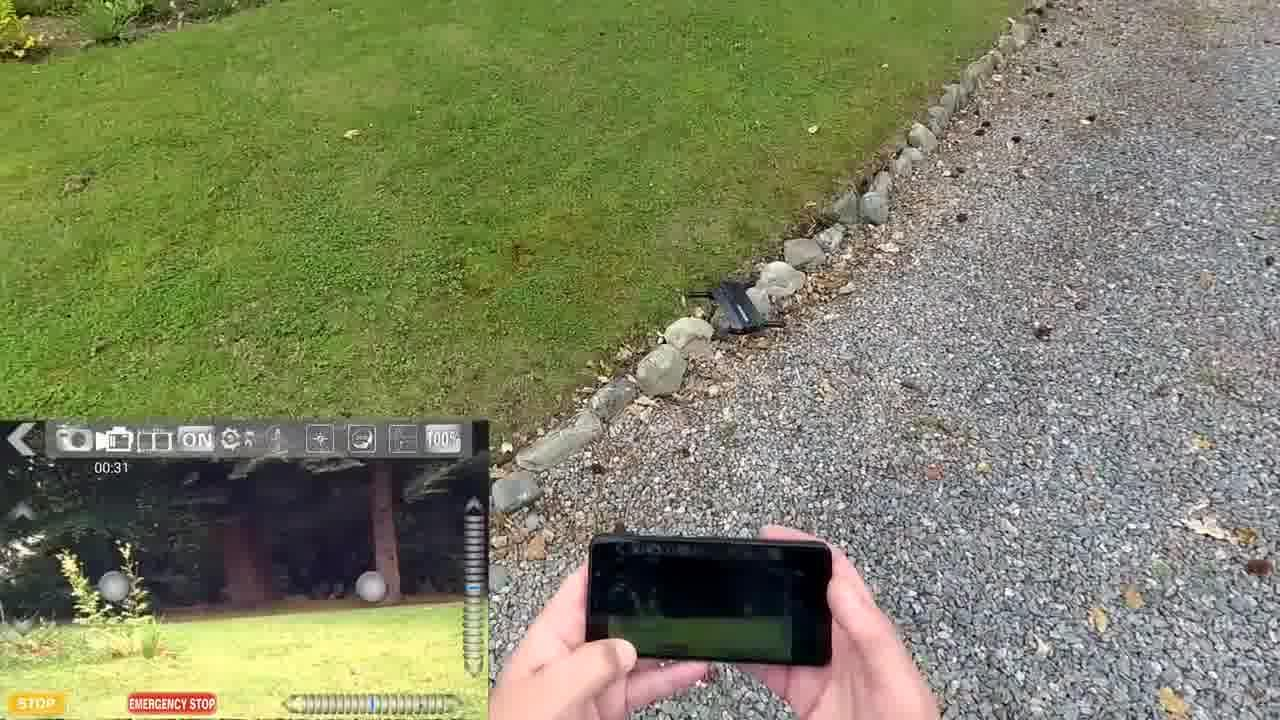drone: (673, 267, 782, 341)
